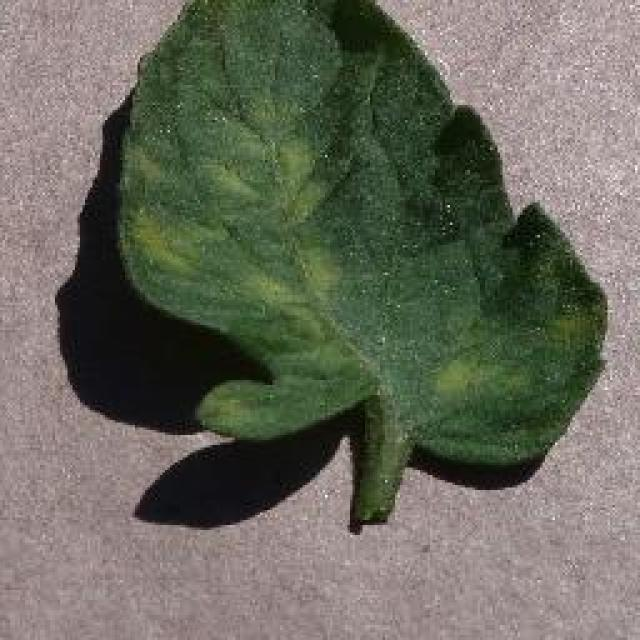Tomato___Leaf_Mold: (118, 0, 605, 522)
